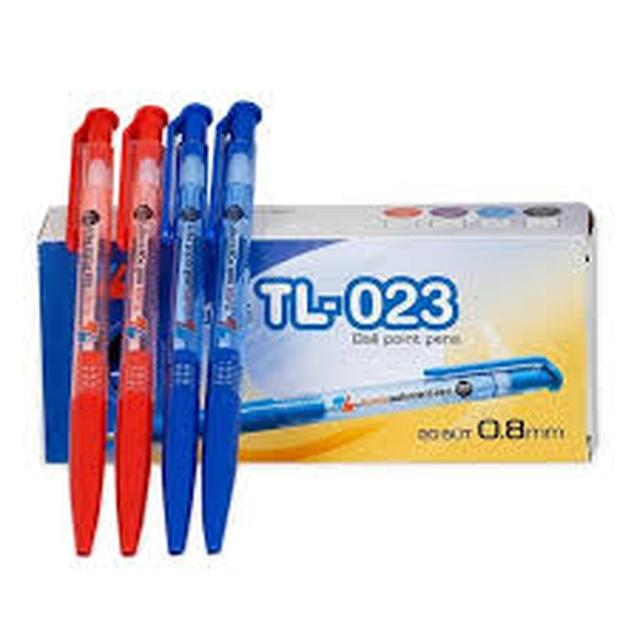pen: (35, 102, 283, 570), (206, 64, 302, 592), (43, 102, 132, 570), (105, 370, 609, 450), (32, 59, 112, 562), (157, 71, 222, 574), (114, 44, 152, 580)
